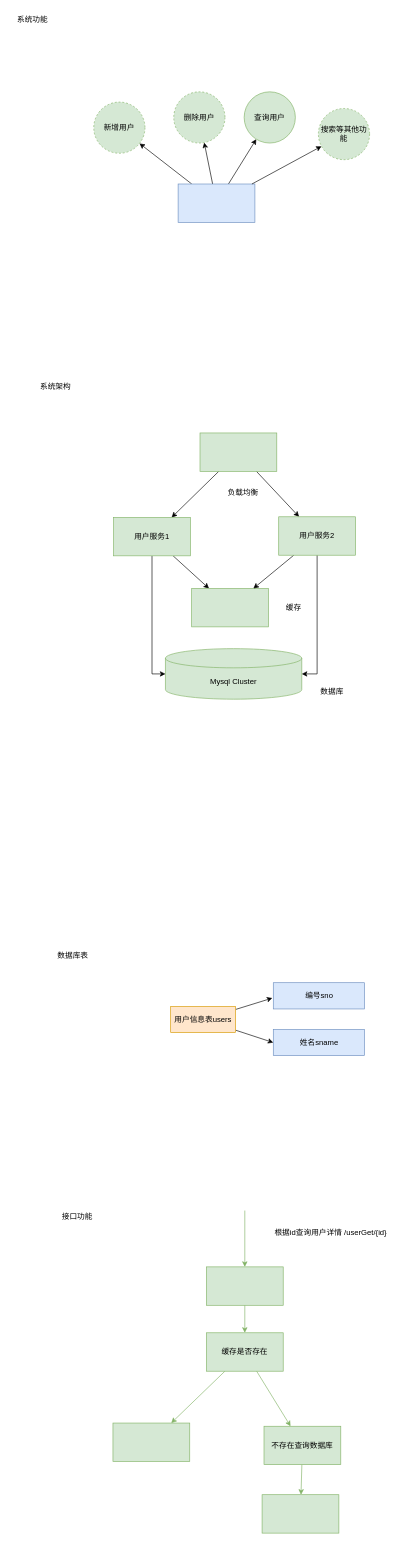
Image size: 403x1544. Some labels were removed from this diagram. Each missing label, with the centre of its shape:
"nginx" belongs at (x=238, y=451).
"redis cluster" belongs at (x=229, y=607).
"存在直接返回详情" belongs at (x=151, y=1441).
"查询成功设置缓存" belongs at (x=300, y=1513).
"用户控制器" belongs at (x=244, y=1285).
"用户管理" belongs at (x=216, y=202).
